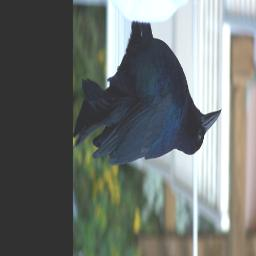Crow: (74, 23, 222, 167)
